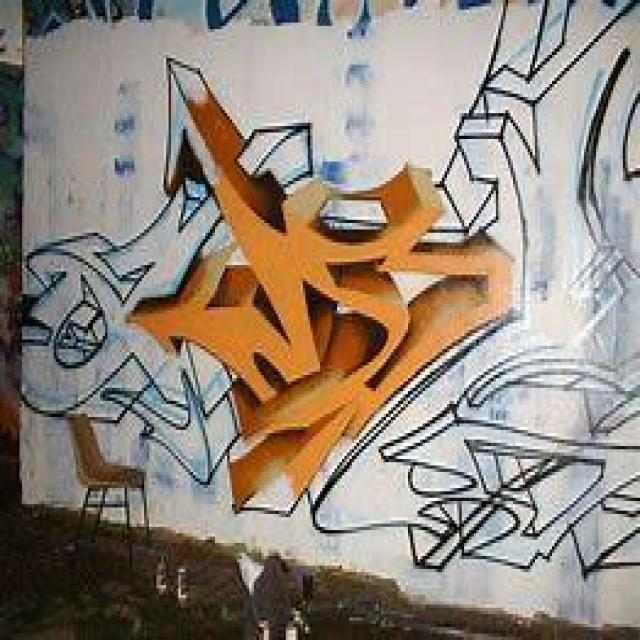nonspitting: (14, 0, 640, 582)
